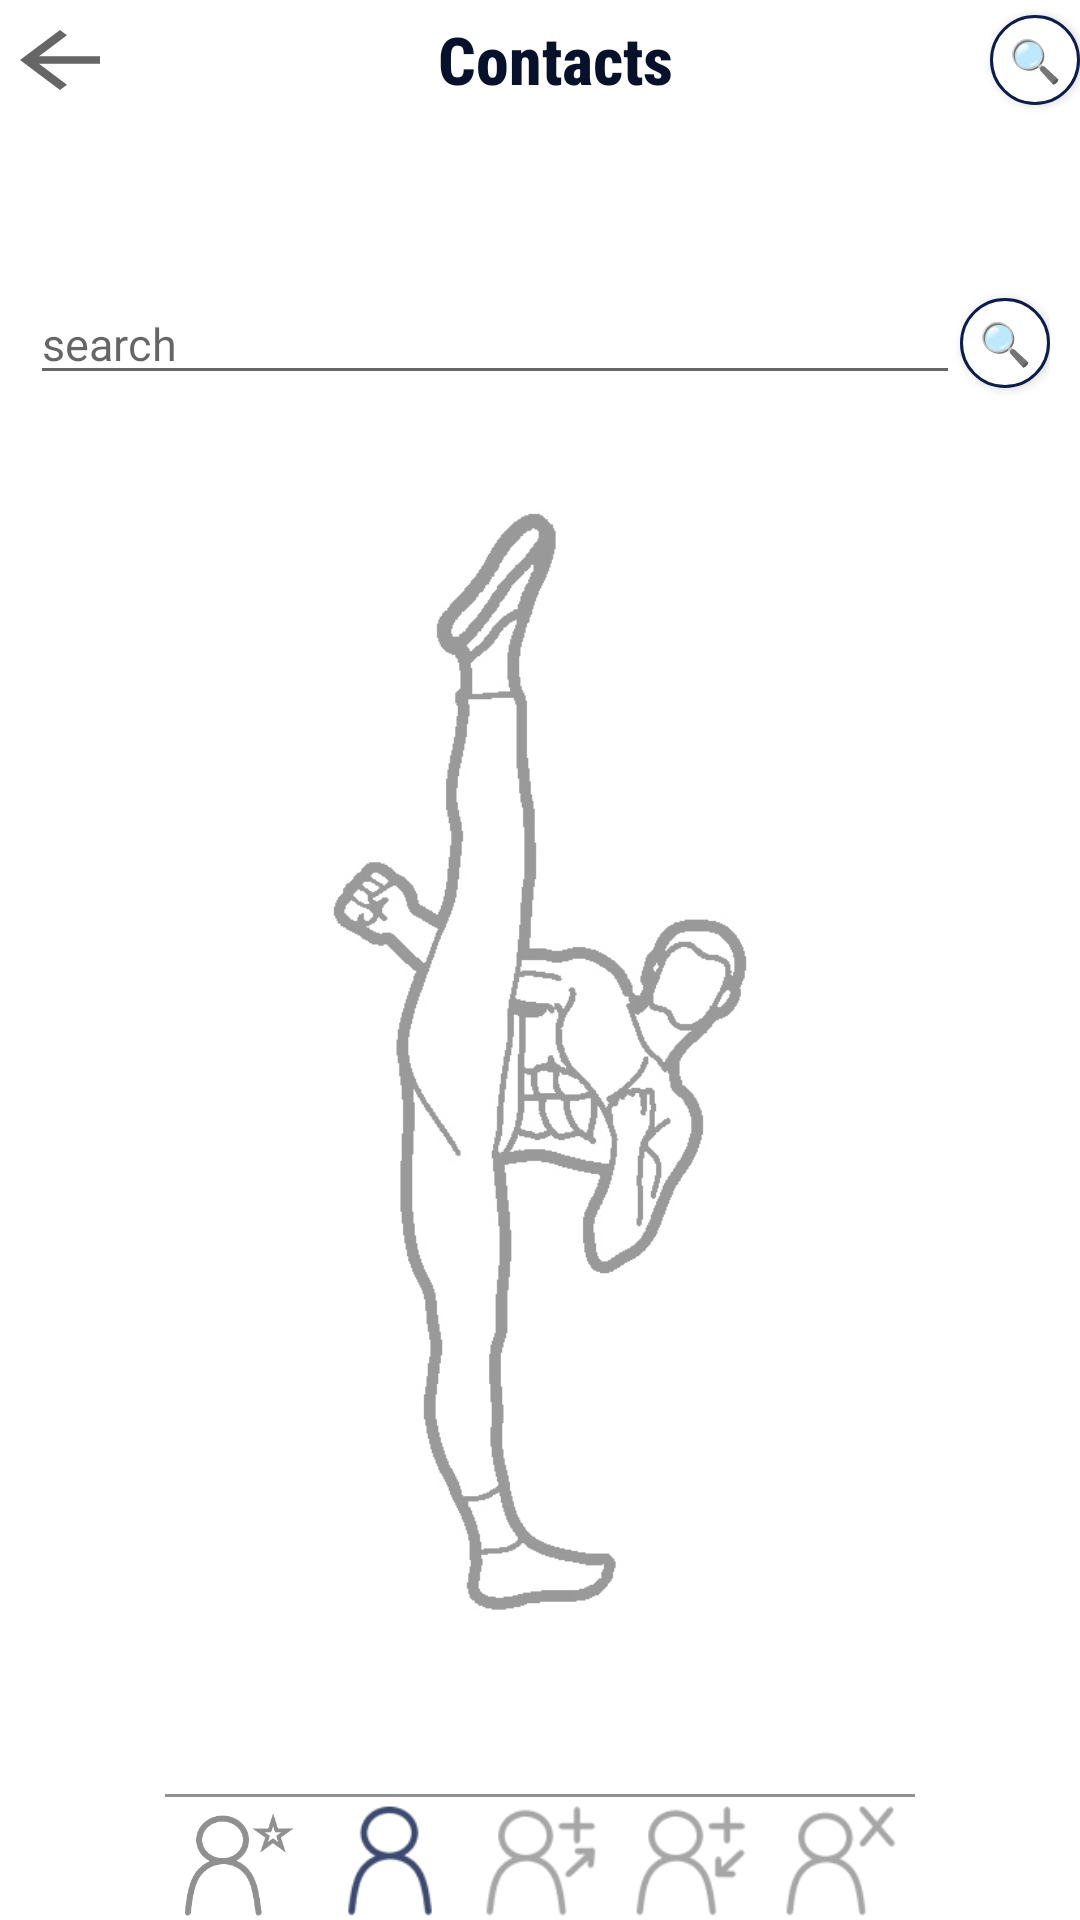

Named icons in this screenshot (1080 × 1920) and their centers, point (x, y):
contacts: point (390, 1861)
contacts blocked: point (840, 1860)
contacts received: point (690, 1860)
contacts sent: point (540, 1860)
